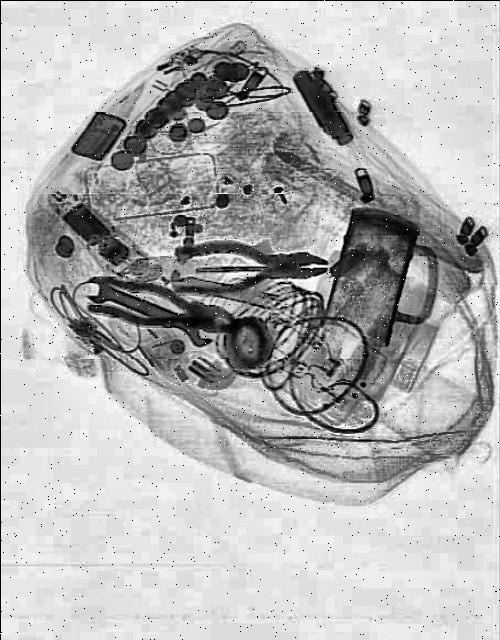Pliers: (80, 267, 231, 347), (172, 238, 326, 300)
Wrench: (84, 274, 216, 354)
